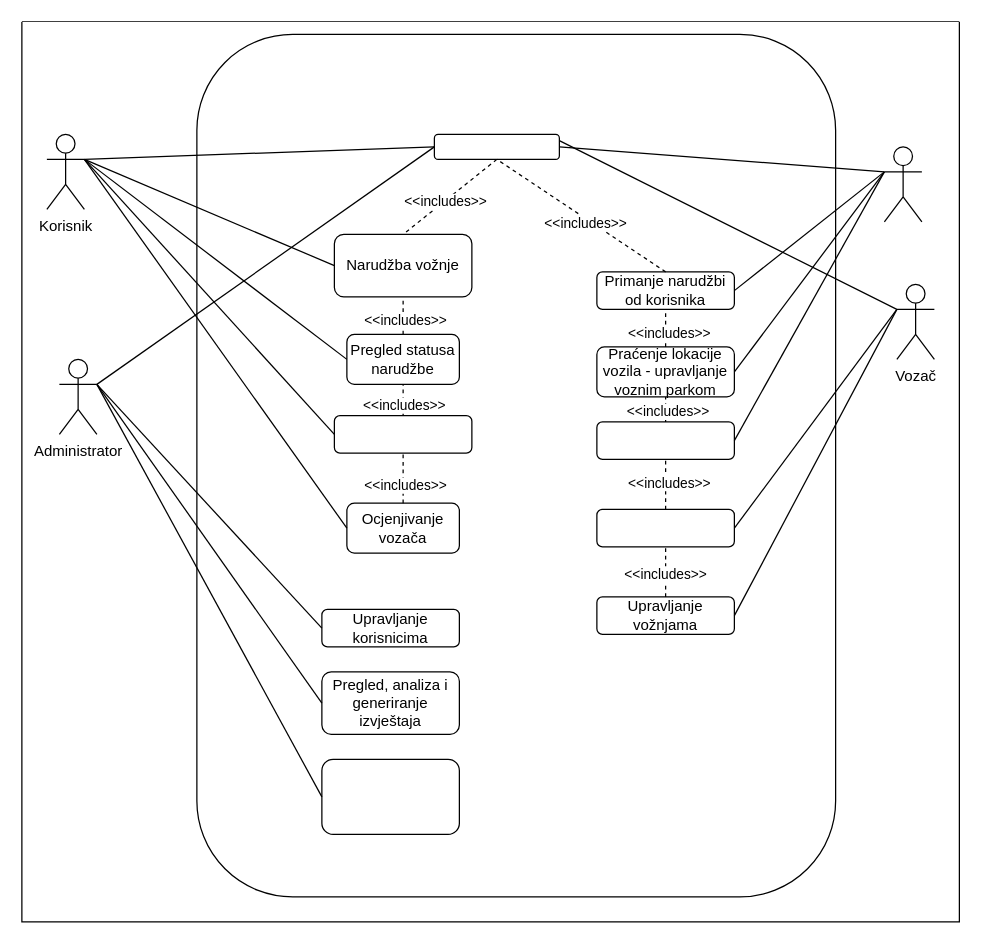
Image size: 981x944. Some labels were removed from this diagram. Here are the shapes that lost their labels. From the top down, the centre of each, then its label:
(x=496, y=146): Prijava na sustav
(x=902, y=184): Dispečer
(x=402, y=433): Plaćanje vožnje
(x=665, y=440): Dodjeljivanje vožnji vozačima
(x=665, y=527): Primanje narudžbi od dispečera
(x=390, y=796): Registracija vozila , servisi - Upravljanje voznim parkom
